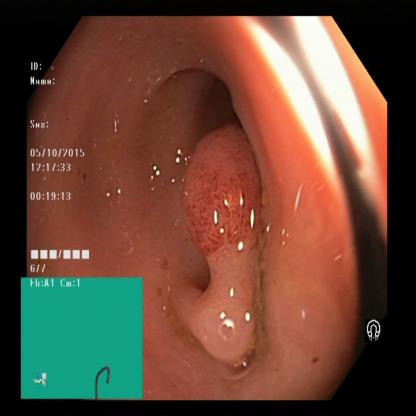Labels: (25, 55, 104, 280), (22, 276, 144, 400), (366, 312, 387, 348)
Polyps: (179, 114, 259, 251), (184, 255, 263, 366)
